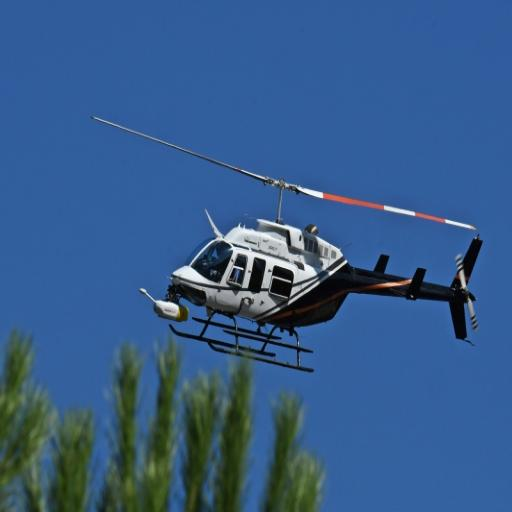helicopter: (92, 112, 474, 377)
